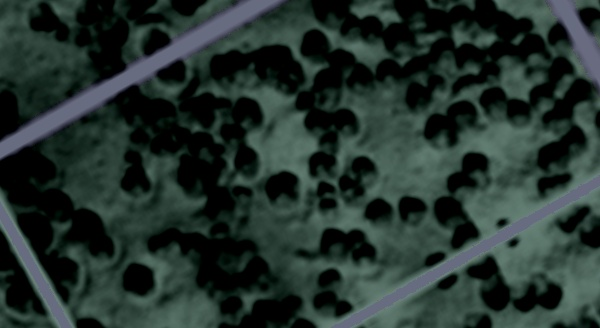halobolite: (542, 75, 594, 127), (314, 227, 381, 265), (256, 39, 298, 95), (538, 123, 583, 168), (304, 105, 359, 136), (197, 180, 237, 222), (423, 110, 458, 151), (125, 256, 157, 300), (178, 159, 223, 190), (90, 18, 133, 50), (235, 88, 264, 133), (114, 88, 150, 124), (457, 146, 496, 179), (297, 28, 331, 64), (141, 224, 179, 256), (477, 82, 510, 118), (415, 7, 457, 35), (221, 46, 251, 85), (191, 124, 224, 159), (516, 28, 548, 64), (538, 169, 570, 205), (435, 195, 471, 227), (144, 93, 174, 131), (559, 197, 587, 236), (479, 4, 513, 36), (139, 26, 173, 58), (22, 155, 50, 193), (190, 233, 222, 266), (467, 250, 499, 283), (269, 168, 295, 208), (397, 190, 427, 224), (401, 54, 441, 79), (383, 23, 421, 49), (42, 185, 71, 219), (480, 279, 512, 309), (452, 220, 482, 252), (21, 220, 49, 254), (148, 125, 178, 156), (158, 60, 189, 90), (308, 147, 336, 180), (449, 94, 477, 127), (95, 48, 124, 79), (79, 213, 108, 244), (511, 280, 540, 311), (342, 63, 374, 91), (7, 290, 40, 317), (51, 214, 80, 244), (42, 269, 74, 296), (363, 195, 392, 224), (352, 15, 383, 42), (546, 20, 577, 47), (28, 1, 54, 33), (215, 293, 248, 318), (376, 54, 402, 85), (47, 243, 79, 268), (313, 68, 342, 95), (240, 136, 265, 167), (314, 130, 345, 155), (190, 96, 216, 125), (537, 284, 566, 310), (231, 238, 265, 260), (506, 95, 533, 122), (76, 1, 109, 22), (119, 172, 150, 194), (7, 264, 32, 291), (402, 82, 426, 110), (421, 245, 450, 268), (447, 170, 473, 195), (458, 44, 483, 70), (317, 267, 345, 289), (50, 19, 73, 45), (437, 268, 461, 292), (314, 176, 337, 201), (310, 289, 335, 310), (349, 157, 376, 176), (176, 1, 200, 21), (317, 197, 339, 218), (333, 298, 353, 320), (126, 148, 145, 167), (496, 211, 511, 230)
